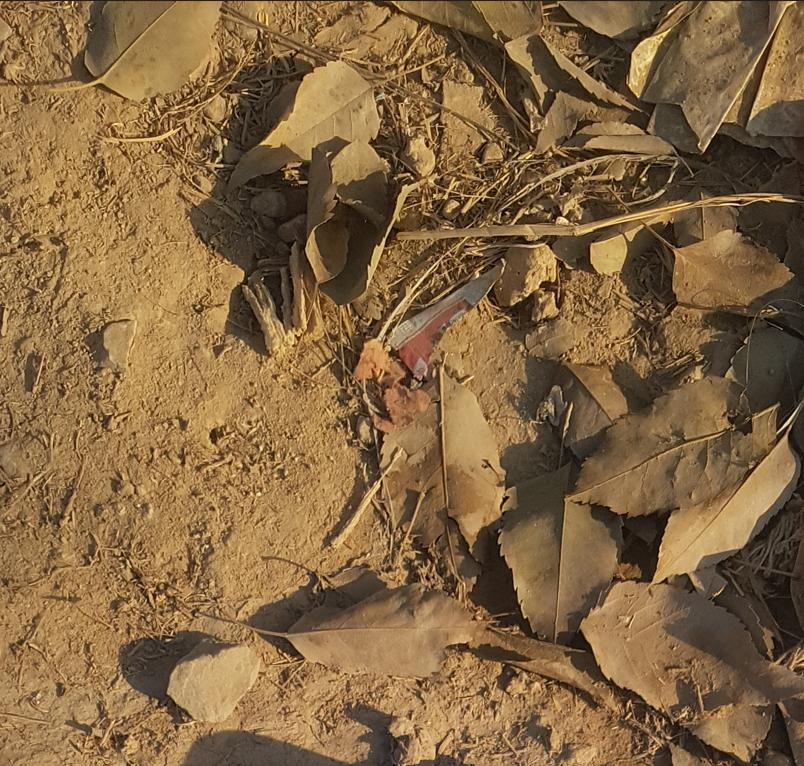organic: (582, 576, 793, 730), (191, 593, 476, 684), (567, 399, 768, 526), (500, 453, 631, 639), (637, 2, 780, 153), (435, 369, 508, 562), (311, 147, 396, 308), (87, 2, 221, 98), (518, 34, 643, 135), (264, 60, 383, 160), (728, 325, 804, 420)
